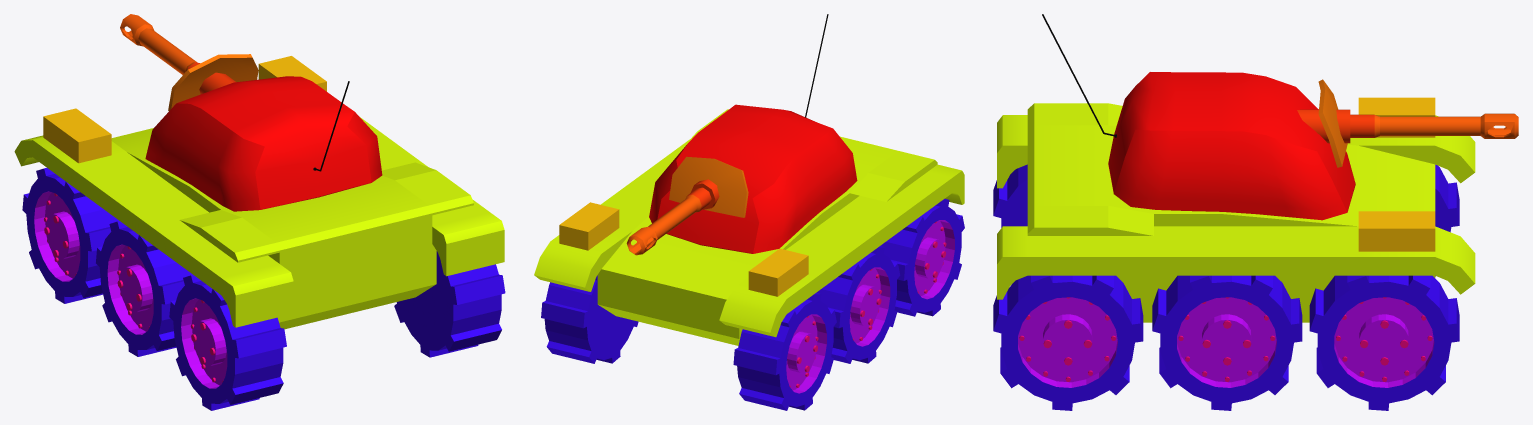
The picture shows the model from 3 angles, left to right: view 1: azimuth 30°, elevation 25°; view 2: azimuth 150°, elevation 25°; view 3: azimuth 270°, elevation 25°; orthographic projection. The views are drawn at different scales.
Visible parts, largest first — view 1: Body, Wheels (×4), Turret, Box, Canon, Canon_Atr, Box2; view 2: Body, Wheels (×4), Turret, Canon_Atr, Canon, Box, Box2; view 3: Wheels (×5), Body, Turret, Canon, Box2, Box, Canon_Atr.
Boxes of the visible parts, <box> form: Body: <box>14,117,504,329</box>; Wheels (×4): <box>22,168,505,410</box>; Turret: <box>145,76,382,211</box>; Box: <box>43,108,111,163</box>; Canon: <box>120,14,235,94</box>; Canon_Atr: <box>168,54,258,110</box>; Box2: <box>258,56,326,91</box>; Body: <box>534,109,964,345</box>; Wheels (×4): <box>541,198,964,410</box>; Turret: <box>649,104,857,253</box>; Canon_Atr: <box>669,156,748,217</box>; Canon: <box>626,179,719,255</box>; Box: <box>748,248,808,296</box>; Box2: <box>559,202,619,250</box>; Wheels (×5): <box>993,164,1459,410</box>; Body: <box>997,103,1475,322</box>; Turret: <box>1108,72,1355,220</box>; Canon: <box>1297,109,1518,143</box>; Box2: <box>1358,211,1435,251</box>; Box: <box>1358,97,1435,137</box>; Canon_Atr: <box>1318,79,1347,167</box>.
Size of the model in its own units: 2.01 by 2.14 by 3.12.
